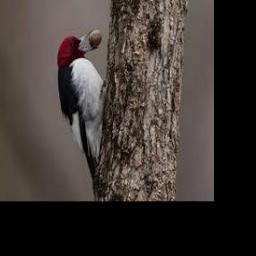Woodpecker: (57, 29, 106, 198)
